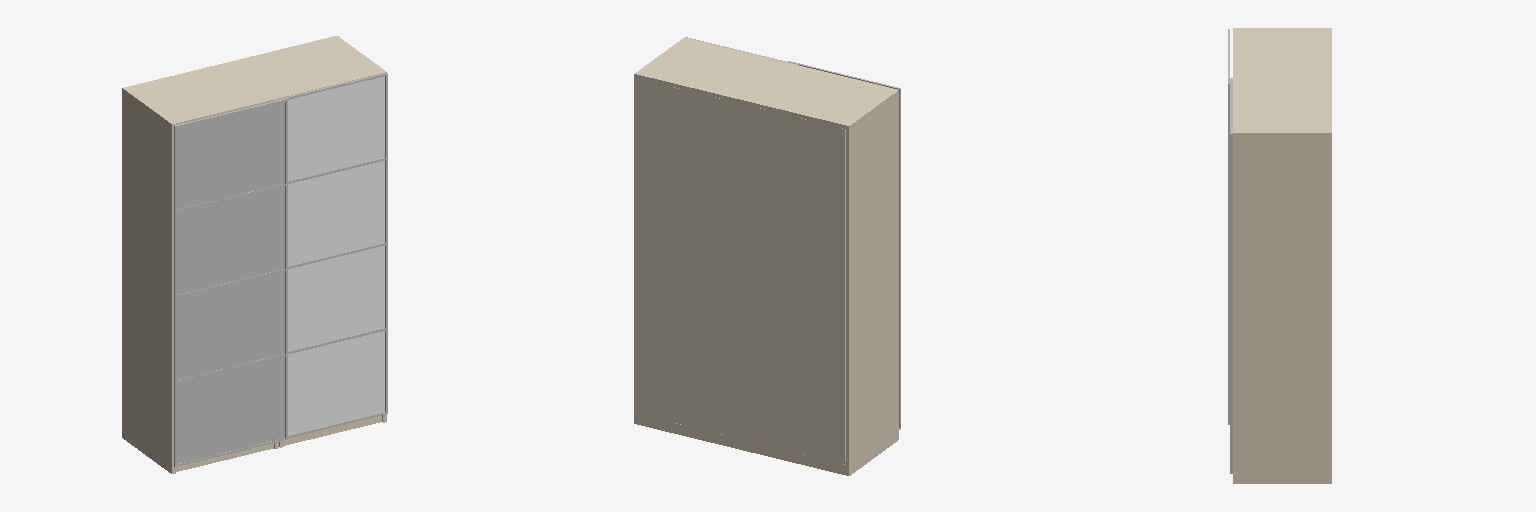
The picture shows the model from 3 angles: view 1: azimuth 30°, elevation 25°; view 2: azimuth 150°, elevation 25°; view 3: azimuth 270°, elevation 25°; orthographic projection.
Parts seen in each view (by area): view 1: Door.001_Plane.006, Door.000_Plane.003, Box_Plane; view 2: Box_Plane, Door.001_Plane.006; view 3: Box_Plane, Door.000_Plane.003, Door.001_Plane.006.
Part boxes in pixels (left/top/right/bottom): Door.001_Plane.006: left=174, top=98, right=287, bottom=466; Door.000_Plane.003: left=274, top=73, right=387, bottom=437; Box_Plane: left=122, top=36, right=386, bottom=473; Box_Plane: left=634, top=38, right=898, bottom=475; Door.001_Plane.006: left=787, top=61, right=900, bottom=429; Box_Plane: left=1233, top=28, right=1331, bottom=483; Door.000_Plane.003: left=1230, top=78, right=1232, bottom=473; Door.001_Plane.006: left=1228, top=29, right=1229, bottom=424.
Bounding box in the file's own units: 152 × 236 × 64.11.
4 materials, 2 textured.